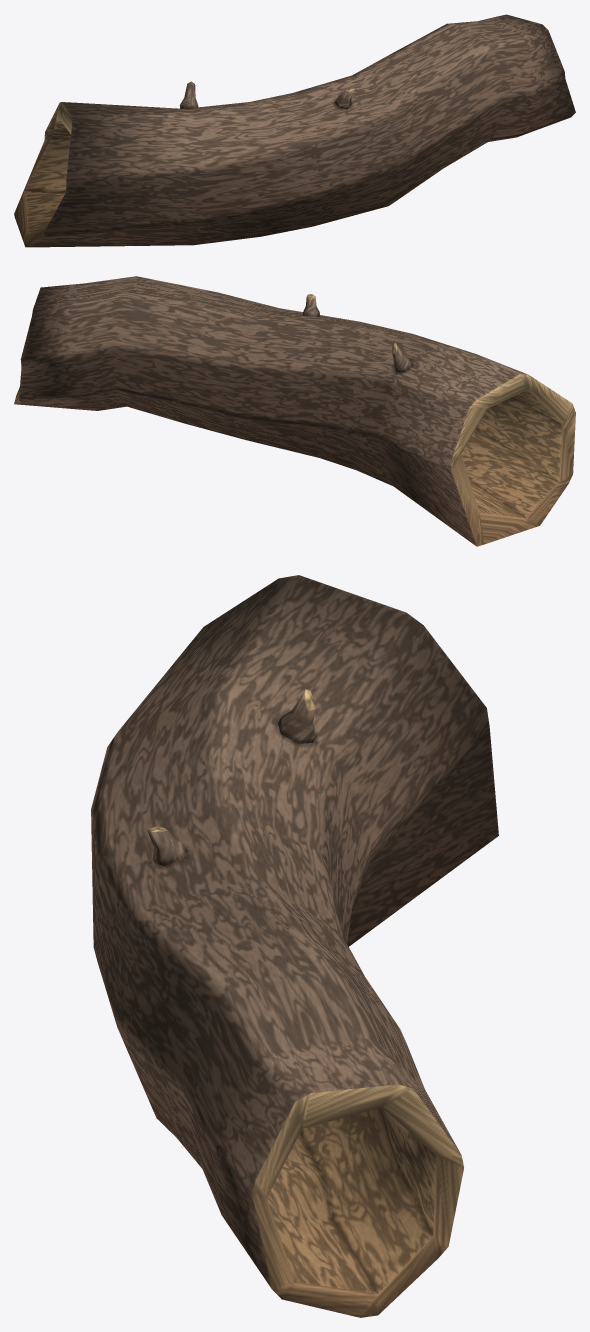
The model's file is log_3.glb.
3 views of the same model, one above another, from view 1: azimuth 30°, elevation 25°; view 2: azimuth 150°, elevation 25°; view 3: azimuth 270°, elevation 25° (orthographic). The views are drawn at different scales.
Parts seen in each view (by area): view 1: log_3; view 2: log_3; view 3: log_3.
Part boxes in pixels (<box>): log_3: <box>14,14,575,247</box>; log_3: <box>14,276,575,546</box>; log_3: <box>91,575,498,1317</box>.
Size of the model in its own units: 6.4 by 1.55 by 2.1.
Materials: 2 (2 with a texture image).
